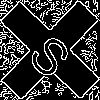S: (25, 25, 81, 82)
